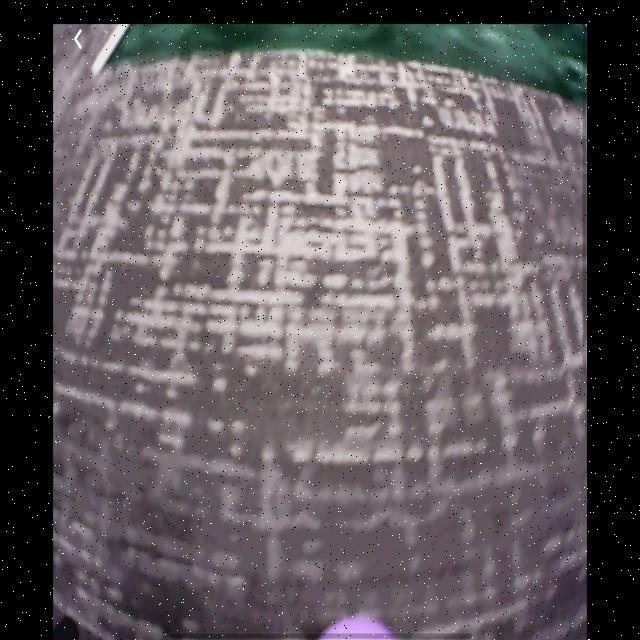ball: (320, 610, 395, 640)
